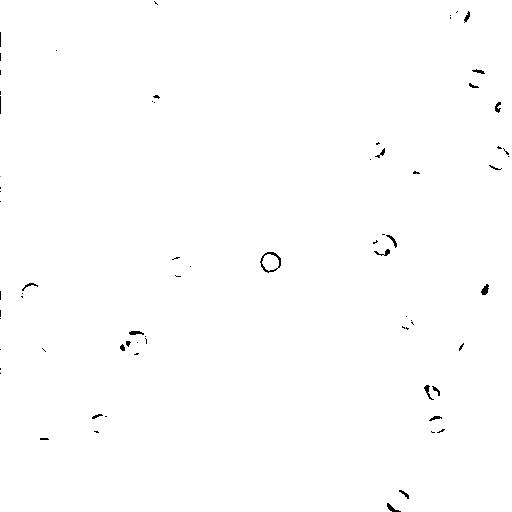micro-algae: (307, 265, 376, 334), (104, 337, 153, 379), (471, 266, 504, 307), (85, 302, 117, 342), (235, 107, 270, 140), (51, 283, 87, 315), (42, 29, 70, 60), (402, 164, 430, 193), (120, 330, 150, 357), (28, 436, 57, 463), (485, 144, 512, 170), (384, 487, 413, 511), (465, 66, 492, 91), (18, 282, 45, 307), (258, 250, 283, 276), (372, 233, 399, 257), (89, 412, 115, 436), (457, 337, 480, 364), (37, 334, 63, 357), (389, 136, 411, 163), (448, 4, 471, 29), (168, 255, 193, 278), (450, 303, 470, 329), (426, 415, 450, 436), (393, 310, 416, 331), (139, 269, 160, 291), (365, 141, 386, 162), (424, 384, 443, 402), (491, 96, 507, 116), (1, 53, 15, 73), (150, 0, 176, 9), (1, 347, 9, 367), (1, 91, 7, 111)
